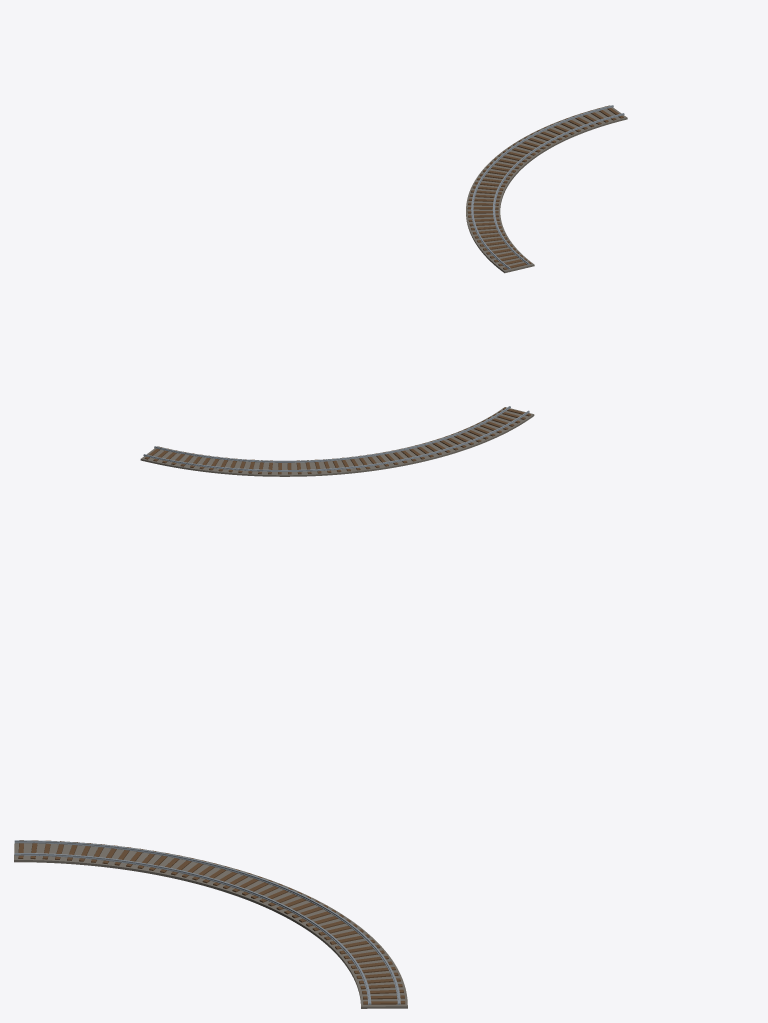
Rendered from rail_virage_geant.glb.
The picture shows the model from 3 angles, top to bottom: view 1: azimuth 30°, elevation 25°; view 2: azimuth 150°, elevation 25°; view 3: azimuth 270°, elevation 25°; orthographic projection. The views are drawn at different scales.
Visible parts, largest first — view 1: rail_ballast.010, rail_traverse.010, rail_rail.010; view 2: rail_ballast.010, rail_traverse.010, rail_rail.010; view 3: rail_ballast.010, rail_traverse.010, rail_rail.010.
Part boxes in pixels (x1,y1,x2,y2): rail_ballast.010: (466,105,627,273); rail_traverse.010: (467,106,623,269); rail_rail.010: (471,105,624,269); rail_ballast.010: (140,407,534,476); rail_traverse.010: (144,407,530,474); rail_rail.010: (143,406,529,471); rail_ballast.010: (14,840,407,1008); rail_traverse.010: (18,840,405,1004); rail_rail.010: (14,840,400,1004).
Bounding box in the file's own units: 15.02 × 0.12 × 15.02.
